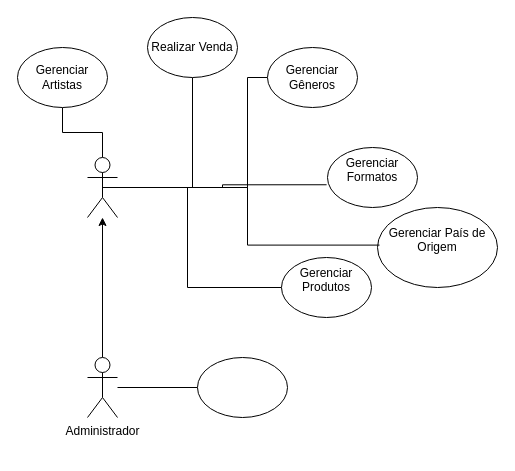
Image size: 515x471. Some labels were removed from this diagram. Each missing label, with the centre of its shape:
Funcionário: (x=102, y=187)
Visualizar Relatórios: (x=242, y=387)
